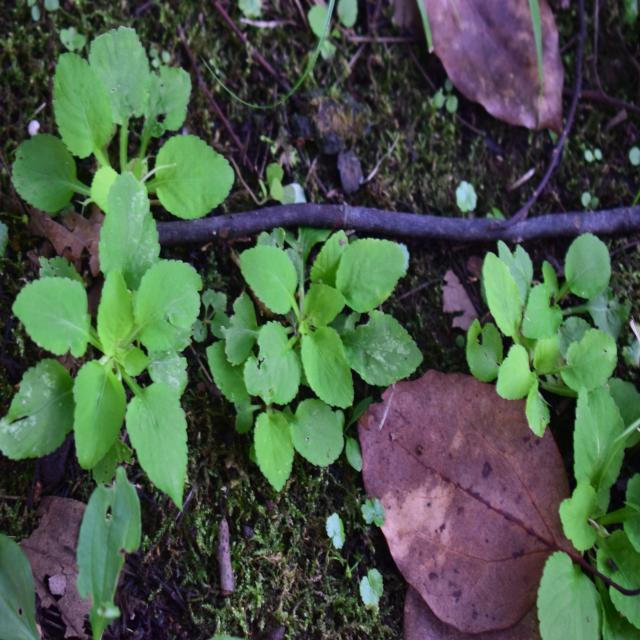Viola: (12, 216, 214, 484), (218, 214, 413, 474), (0, 19, 241, 226)
